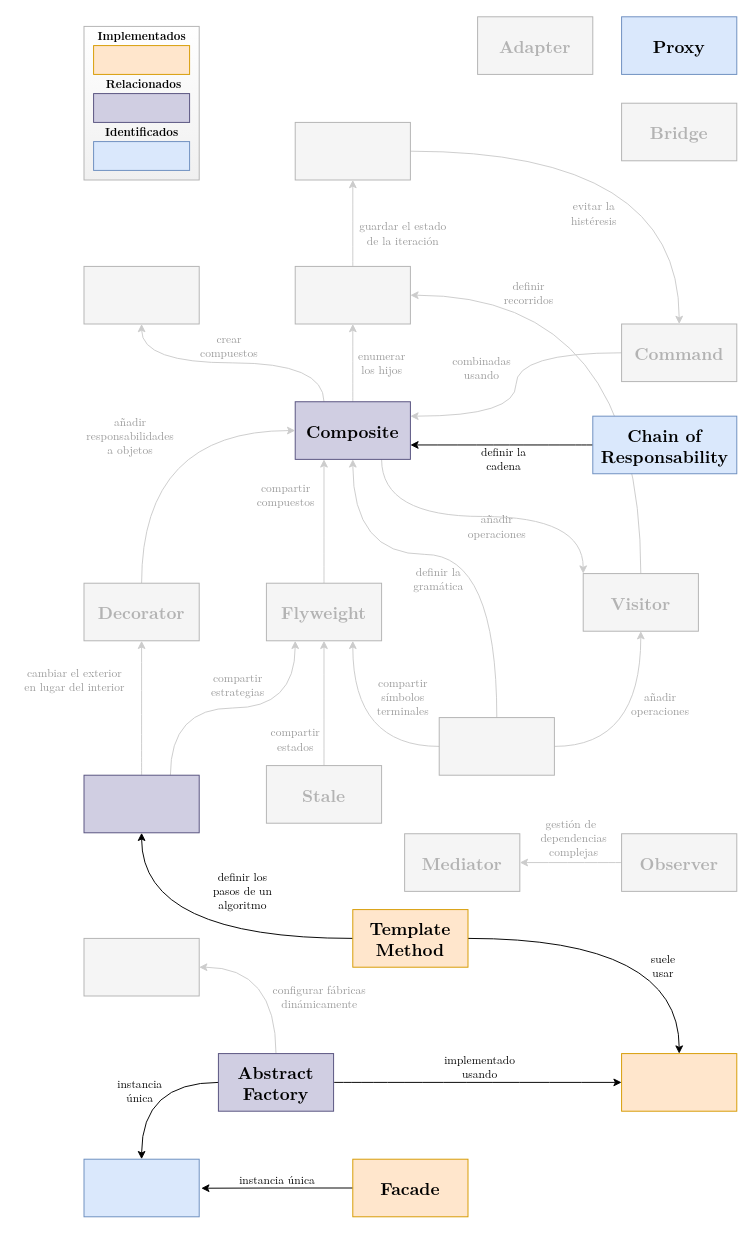
Image size: 754x1234. Some labels were removed from this diagram. Here are the shapes that lost their labels. From the top down, the box of each, then its label:
(294, 121, 410, 180): Memento
(83, 265, 199, 324): Builder
(294, 265, 410, 324): Iterator
(438, 717, 554, 775): Interpreter
(83, 774, 199, 833): Strategy
(83, 937, 199, 996): Prototype
(621, 1053, 737, 1111): Factory Method
(83, 1158, 199, 1217): Singleton
